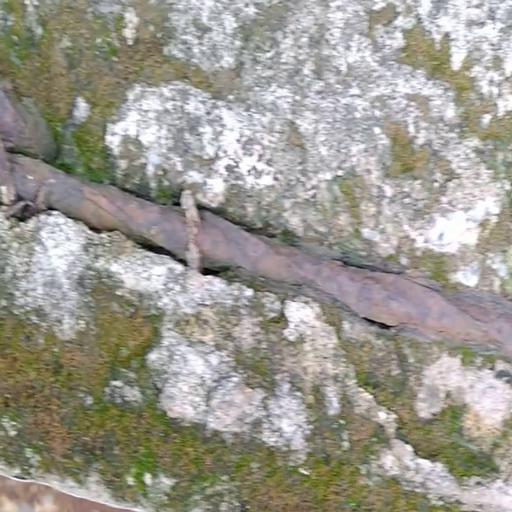spalling: (0, 45, 512, 511)
